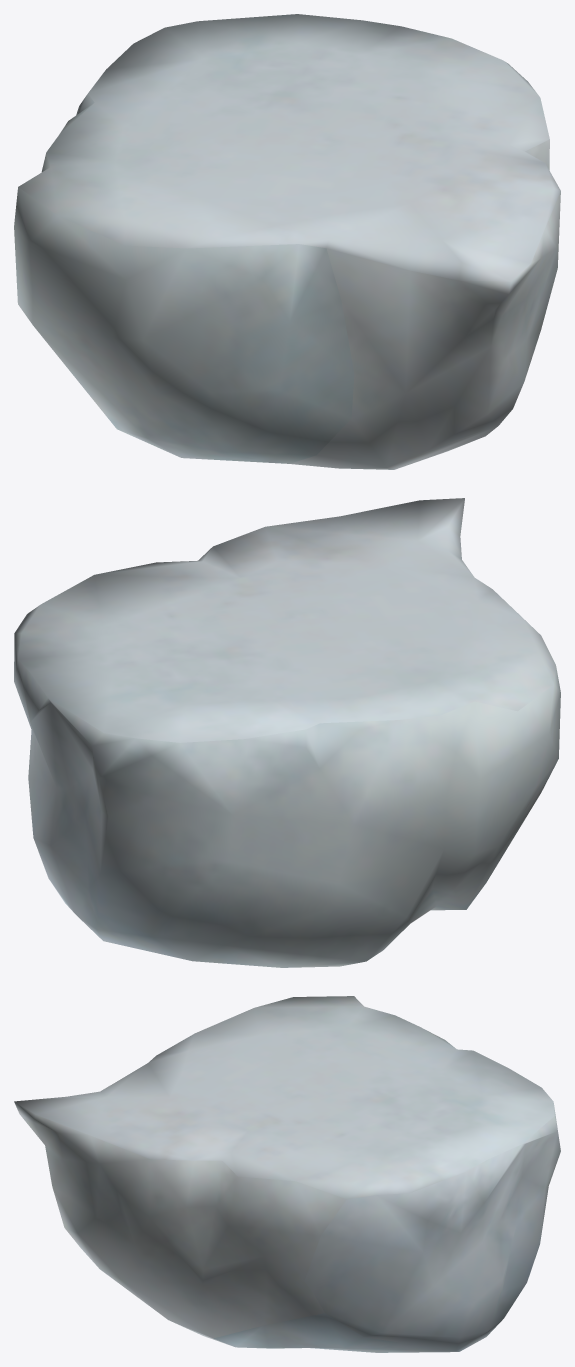
Rendered from P_ShelfClassic7.obj.
3 views of the same model, one above another, from view 1: azimuth 30°, elevation 25°; view 2: azimuth 150°, elevation 25°; view 3: azimuth 270°, elevation 25° (orthographic). The views are drawn at different scales.
Size of the model in its own units: 17.24 by 9.29 by 20.34.
